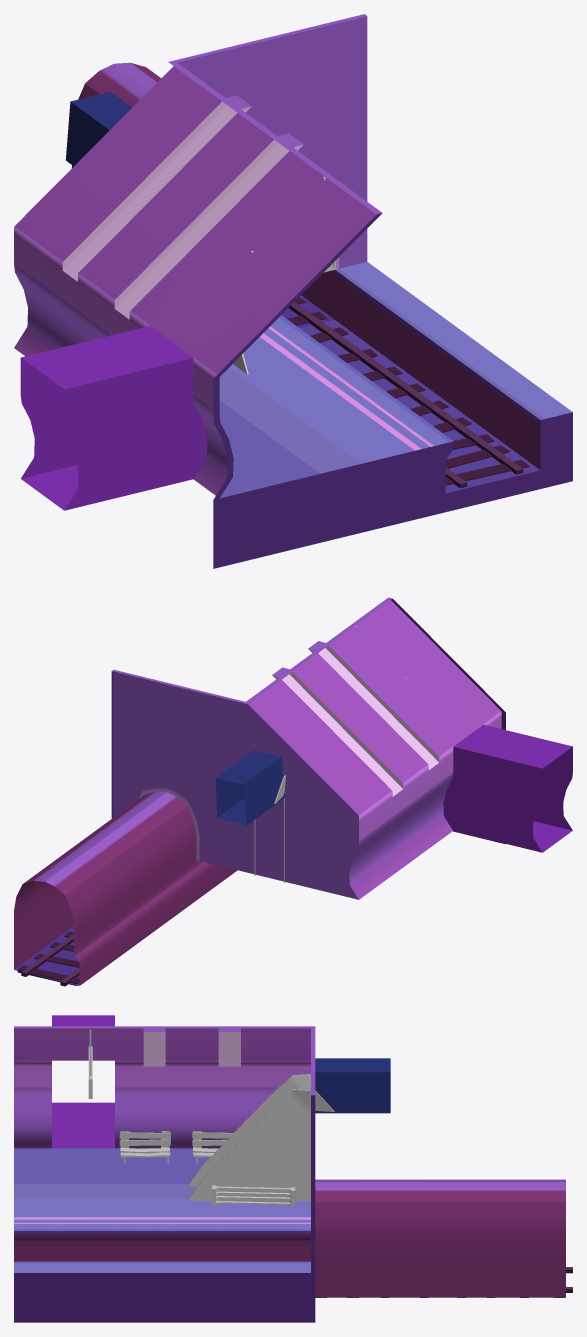
Rendered from station 3.fbx.
The picture shows the model from 3 angles, top to bottom: view 1: azimuth 30°, elevation 25°; view 2: azimuth 150°, elevation 25°; view 3: azimuth 270°, elevation 25°; orthographic projection. The views are drawn at different scales.
Visible parts, largest first — view 1: env_3, track_3; view 2: env_3, track_3; view 3: env_3, stairs, pCube74, polySurface13, polySurface14.
Part boxes in pixels (<box>): env_3: <box>14,14,572,568</box>; track_3: <box>287,297,529,488</box>; env_3: <box>14,597,572,985</box>; track_3: <box>17,931,79,986</box>; env_3: <box>14,1015,565,1322</box>; stairs: <box>187,1074,334,1200</box>; pCube74: <box>211,1185,295,1206</box>; polySurface13: <box>119,1131,170,1163</box>; polySurface14: <box>192,1131,235,1163</box>.
Size of the model in its own units: 26.84 by 16.74 by 37.27.
